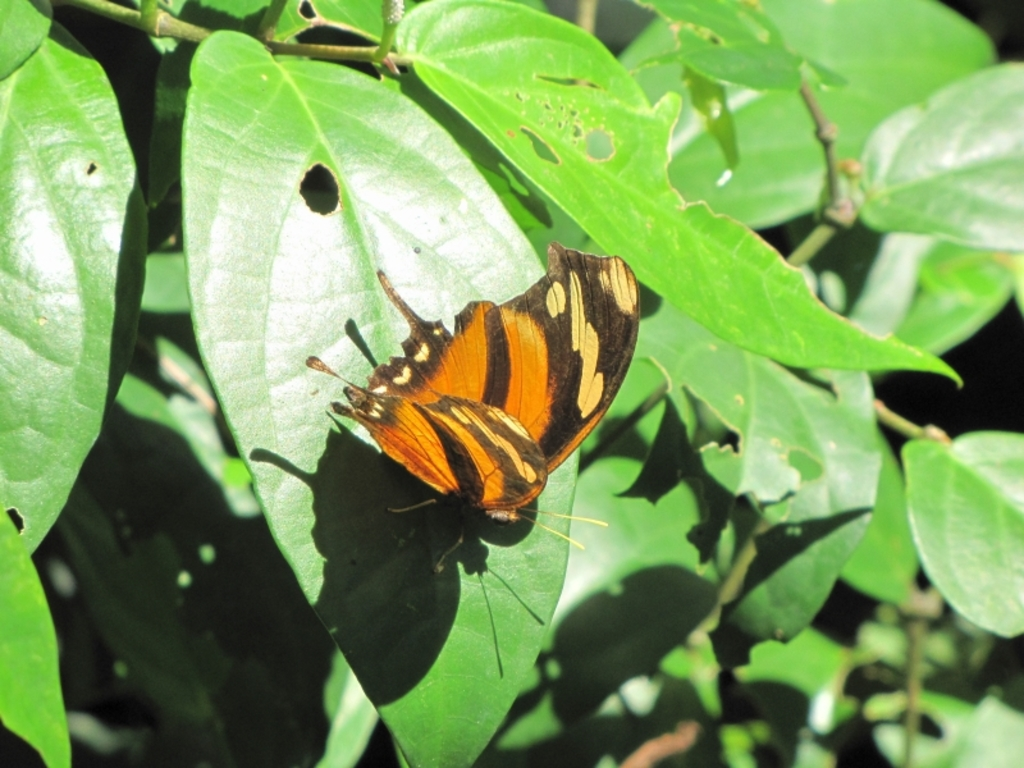Butterfly: (312, 237, 652, 552)
